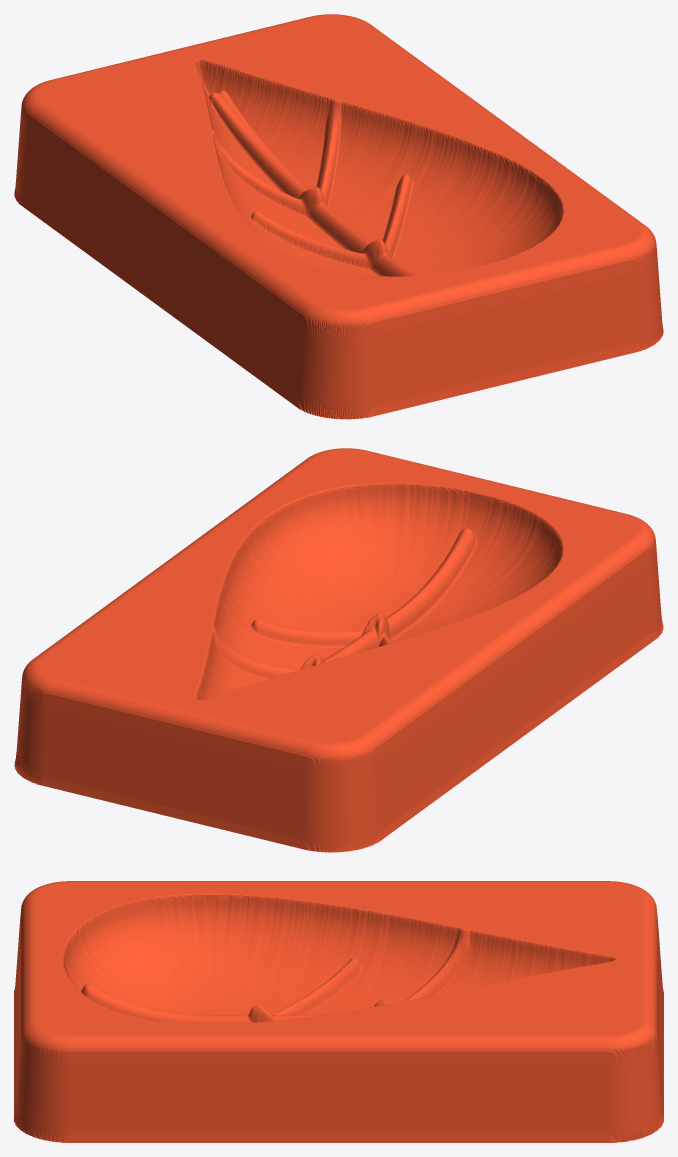
Rendered from mold.glb.
The picture shows the model from 3 angles, top to bottom: view 1: azimuth 30°, elevation 25°; view 2: azimuth 150°, elevation 25°; view 3: azimuth 270°, elevation 25°; orthographic projection. The views are drawn at different scales.
Visible parts, largest first — view 1: geometry_0; view 2: geometry_0; view 3: geometry_0.
Part boxes in pixels (left/top/right/bottom): geometry_0: left=14, top=14, right=663, bottom=419; geometry_0: left=14, top=448, right=663, bottom=852; geometry_0: left=14, top=881, right=663, bottom=1142.
Bounding box in the file's own units: 0.0656 × 0.0175 × 0.105.
